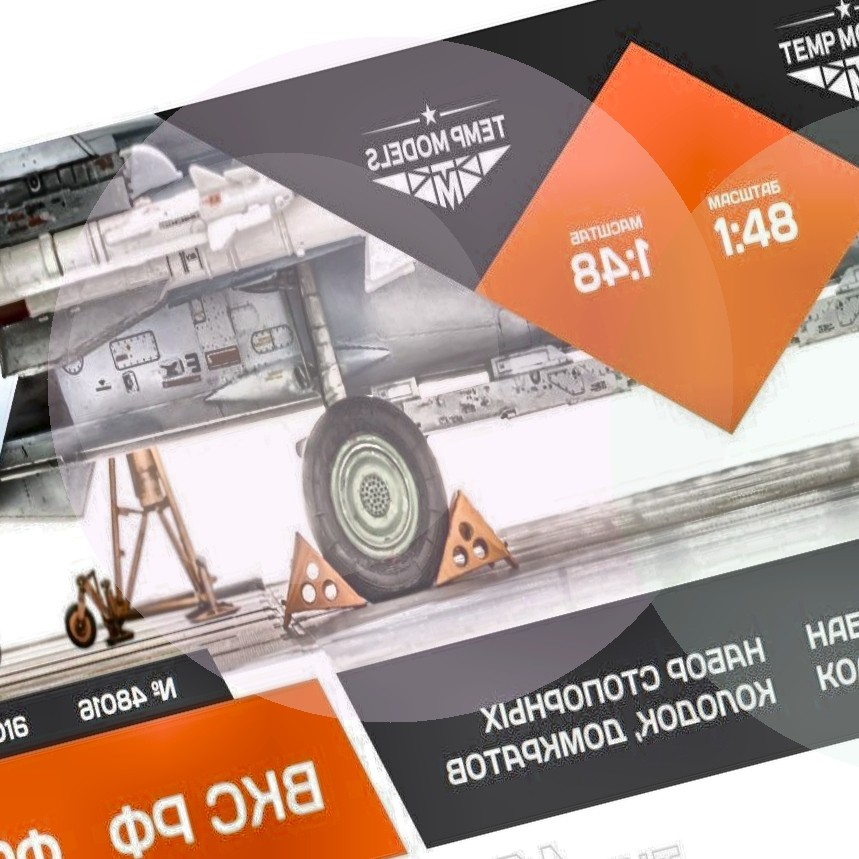chock: (263, 520, 371, 631), (414, 481, 520, 589)
wheel: (280, 374, 469, 608), (60, 596, 103, 650)
